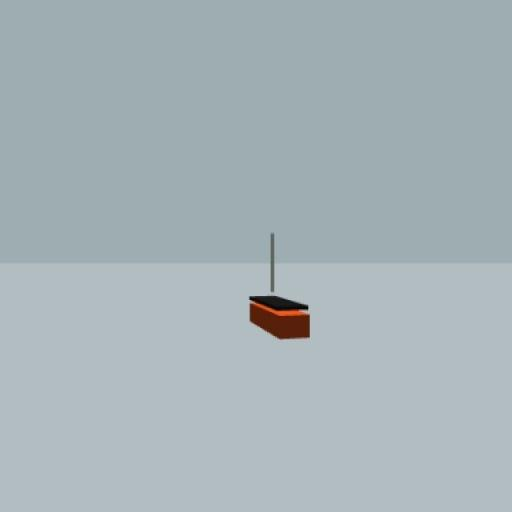vessel: (249, 232, 311, 340)
